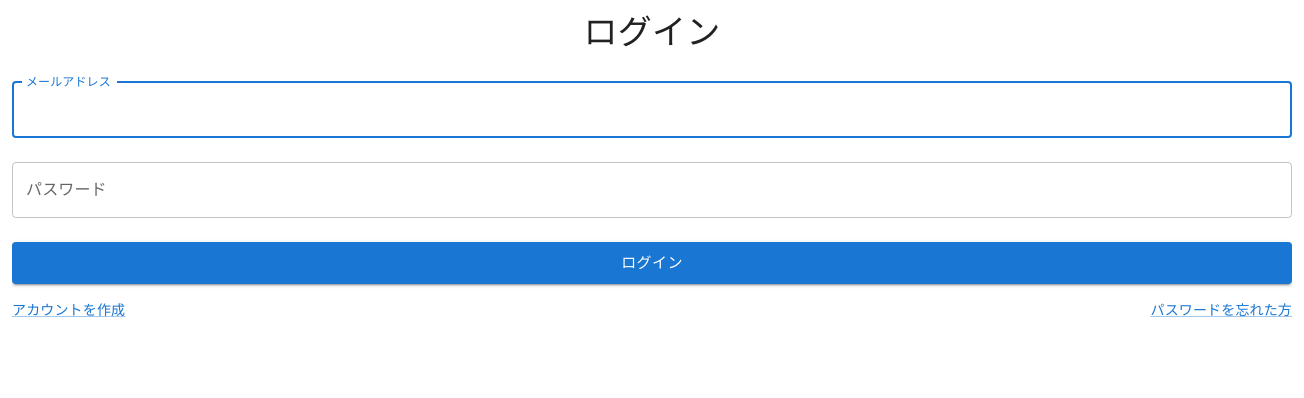
Test: LoginForm › ログイン失敗でエラーメッセージを表示する
This screenshot has width=1304, height=398.
Type "test@example.com" into the field labelled "メールアドレス" at (652, 110), box x1=12 y1=82 x2=1292 y2=138
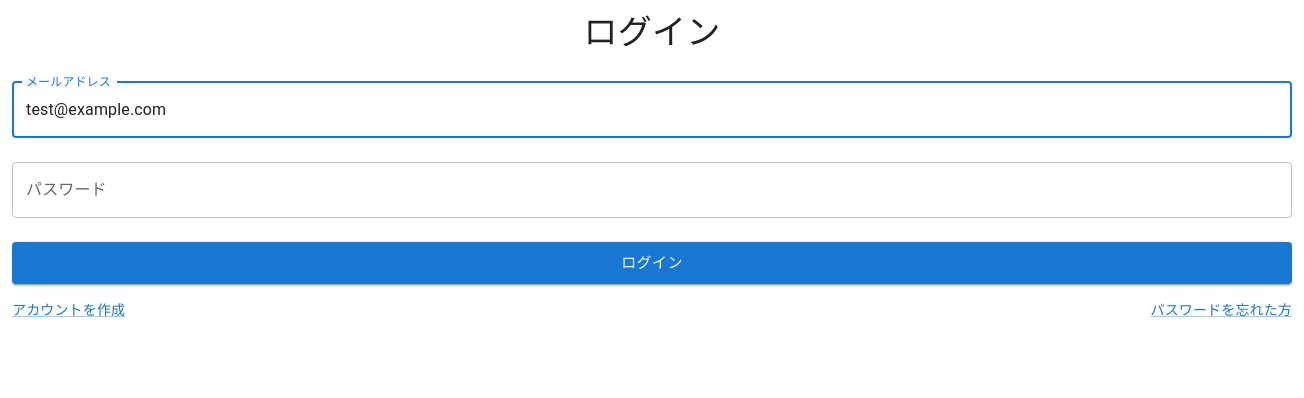
Type "Password123" into the password field labelled "パスワード" at (652, 190), box x1=12 y1=162 x2=1292 y2=218
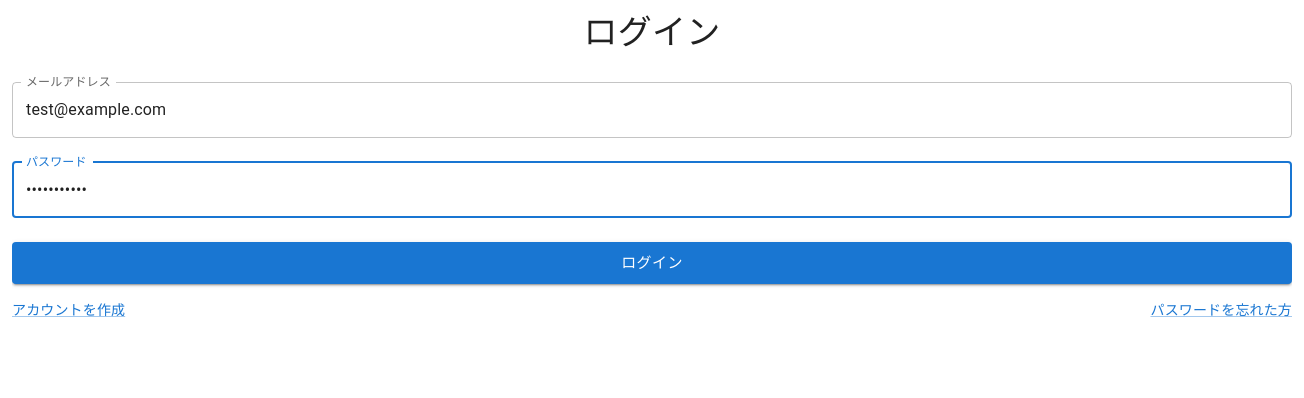
Click the button "ログイン" at (652, 263), box x1=12 y1=242 x2=1292 y2=284
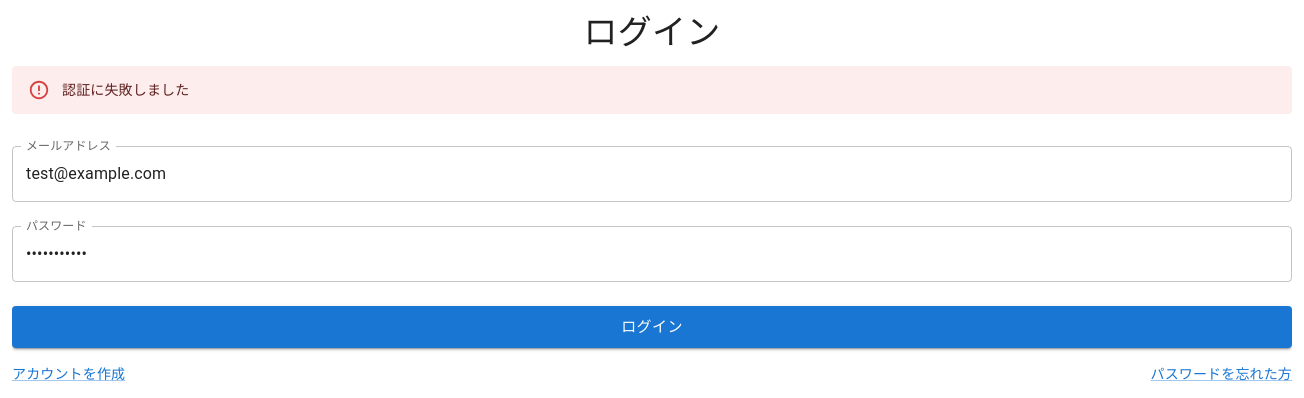
Expected: the text "認証に失敗しました" is shown, x1=62 y1=82 x2=189 y2=98
